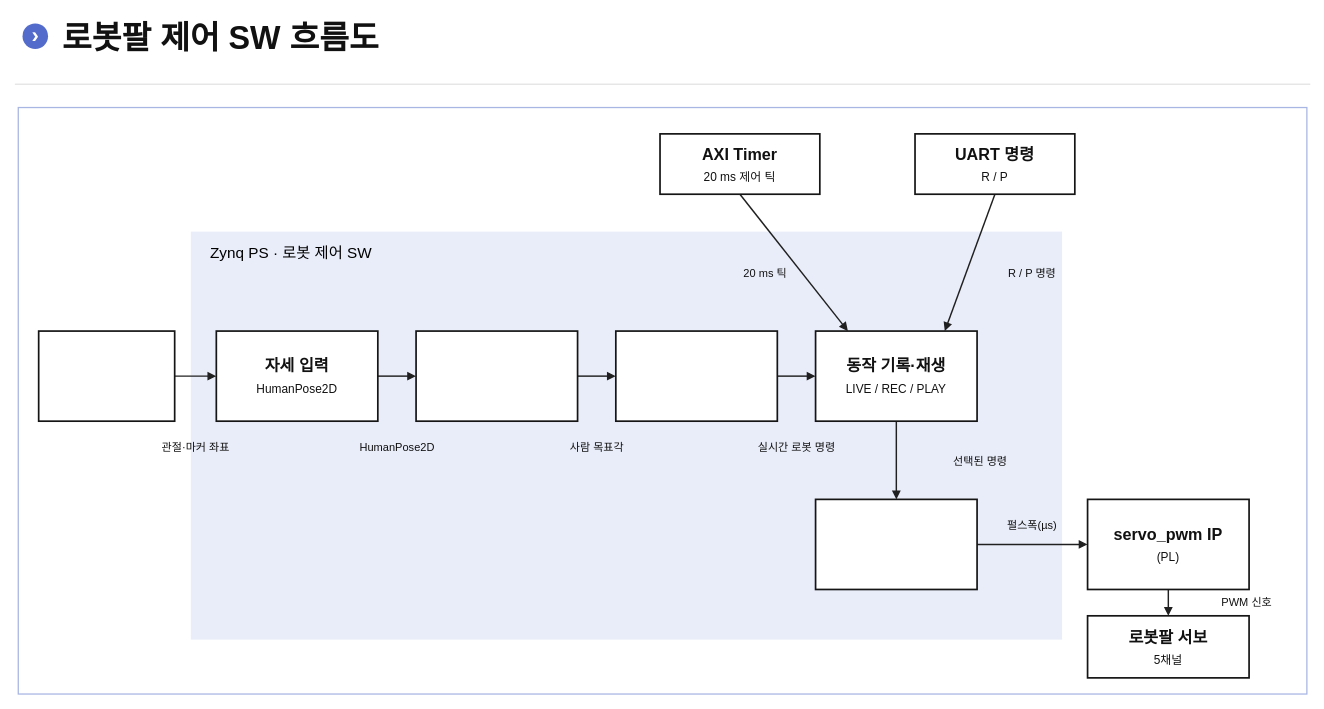
Some shapes in this 1324 by 709 pixel diagram are drawn without their labels. Each missing label, with the centre of its shape:
CNN 결과 (PL): [106,376]
로봇 동작 변환 보정 · 안전 검사: [696,376]
사람 동작 해석 3D · 사람 목표각: [496,376]
서보 출력 제어 각도 → PWM: [896,544]
